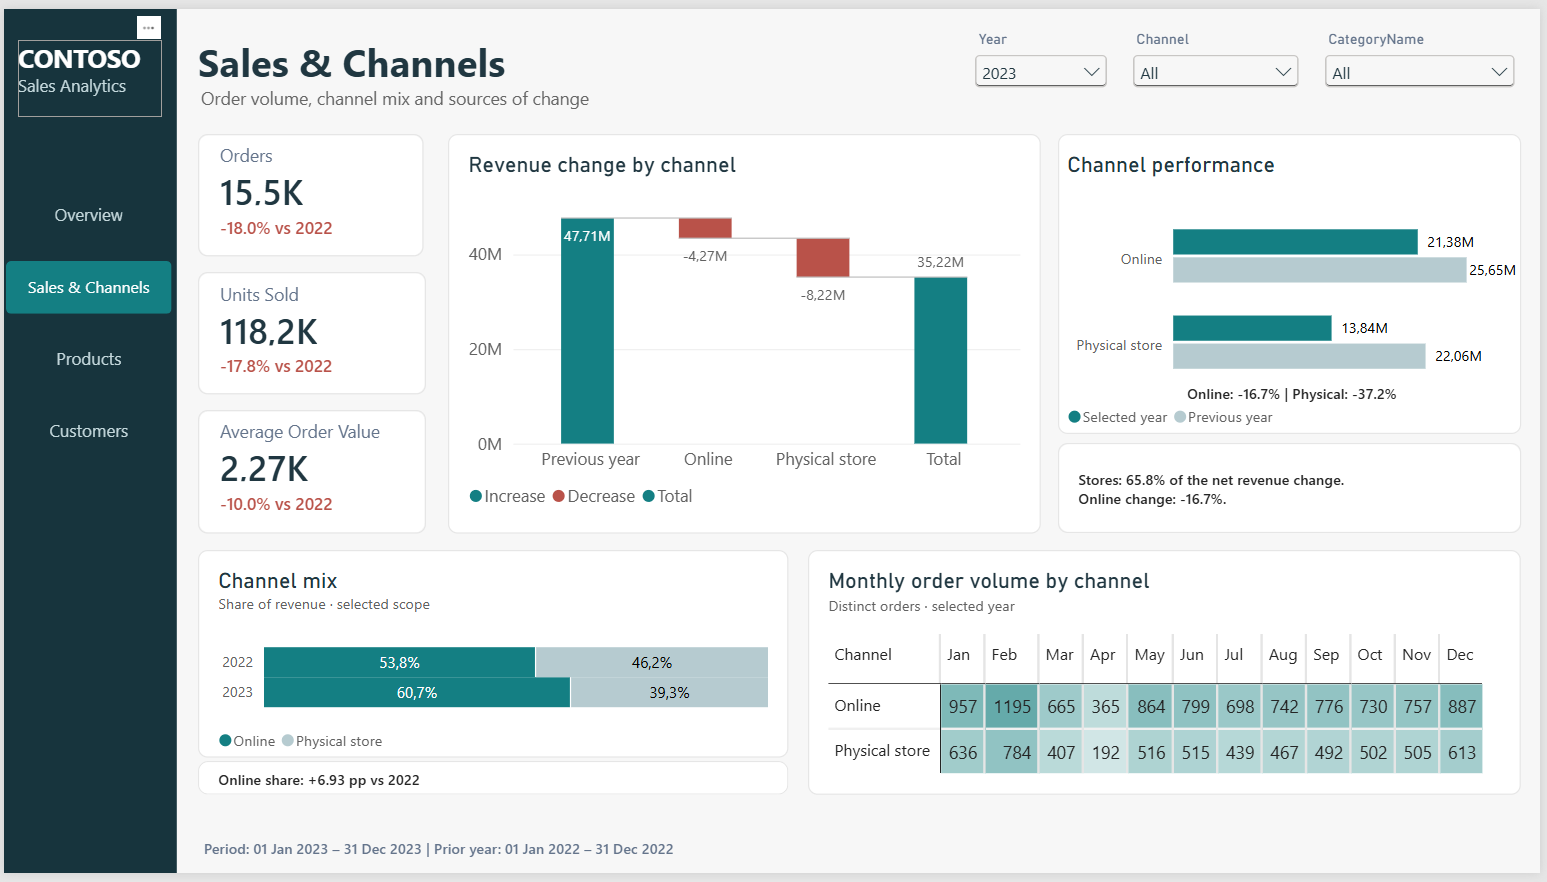

The page's visual inventory and layout, read from the dashboard file:
{"tool":"powerbi","page":{"name":"Sales & Channels","canvas":[1280,720],"ordinal":2},"visuals":[{"type":"shape","box":[0,0,144,720],"z":0},{"type":"shape","box":[162,104,188,102],"z":0,"group":"g2"},{"type":"shape","box":[162,219,190,102],"z":0,"group":"g1"},{"type":"shape","box":[162,334,190,103],"z":0,"group":"g3"},{"type":"textbox","box":[12,26,120,64],"z":1000},{"type":"cardVisual","fields":{"Data":["_Measures.Orders"]},"box":[170,112,182.1,88],"z":1000,"group":"g2"},{"type":"cardVisual","fields":{"Data":["_Measures.Units Sold"]},"box":[170,228,192,90],"z":1000,"group":"g1"},{"type":"cardVisual","fields":{"Data":["_Measures.Average Order Value"]},"box":[170,342,176,88],"z":1000,"group":"g3"},{"type":"textbox","box":[162,22,500,44],"z":2000},{"type":"slicer","fields":{"Values":["Date.Year"]},"box":[804,18,120,56],"z":3000},{"type":"cardVisual","fields":{"Data":["_Measures.Report Period Label"]},"box":[162,690,1102,18],"z":4000},{"type":"pageNavigator","box":[2,150,138,224],"z":5000},{"type":"slicer","fields":{"Values":["Store.Channel"]},"box":[936,18,148,56],"z":6000},{"type":"slicer","fields":{"Values":["Product.CategoryName"]},"box":[1096,18,168,56],"z":7000},{"type":"group","id":"g1","title":"kpi2","box":[162,219,200,102],"z":8000},{"type":"group","id":"g2","title":"kpi1","box":[162,104,190.1,102],"z":9000},{"type":"group","id":"g3","title":"kpi3","box":[162,334,190,103],"z":10000},{"type":"waterfallChart","title":"Revenue change by channel","fields":{"Category":["Sales Bridge Steps.Step"],"Y":["_Measures.Revenue Bridge Value"]},"box":[370,104,494,333],"z":11000},{"type":"clusteredBarChart","title":"Channel performance","fields":{"Category":["Store.Channel"],"Y":["_Measures.Revenue","_Measures.Revenue PY"]},"box":[878,104,386,250],"z":12000},{"type":"hundredPercentStackedBarChart","title":"Channel mix","fields":{"Category":["Comparison Year.Year"],"Y":["_Measures.Channel Mix Online","_Measures.Channel Mix Physical"]},"box":[162,451,492,173],"z":13000},{"type":"pivotTable","title":"Monthly order volume by channel","fields":{"Columns":["Date.MonthShort"],"Rows":["Store.Channel"],"Values":["_Measures.Orders"]},"box":[670,451,594,204],"z":14000},{"type":"cardVisual","fields":{"Data":["_Measures.Insight Channel Bridge Visual"]},"box":[878,362,386,75],"z":15000},{"type":"cardVisual","fields":{"Data":["_Measures.Channel Mix Change Label Visual"]},"box":[162,627,492,28],"z":16000},{"type":"cardVisual","fields":{"Data":["_Measures.Channel Performance YoY Text"]},"box":[970,308,265,23],"z":17000},{"type":"textbox","box":[164,64,400,48],"z":18000}]}

Visuals, with their boxes on the page's 1280x720 design canvas (x1, y1, x2, y2). These are canvas units, not pixel positions in the 1547x882 screenshot, which may show the page scaled, cropped or inside an application window:
shape: [x1=0, y1=0, x2=144, y2=720]
shape: [x1=162, y1=104, x2=350, y2=206]
shape: [x1=162, y1=219, x2=352, y2=321]
shape: [x1=162, y1=334, x2=352, y2=437]
textbox: [x1=12, y1=26, x2=132, y2=90]
cardVisual - _Measures.Orders: [x1=170, y1=112, x2=352, y2=200]
cardVisual - _Measures.Units Sold: [x1=170, y1=228, x2=362, y2=318]
cardVisual - _Measures.Average Order Value: [x1=170, y1=342, x2=346, y2=430]
textbox: [x1=162, y1=22, x2=662, y2=66]
slicer - Date.Year: [x1=804, y1=18, x2=924, y2=74]
cardVisual - _Measures.Report Period Label: [x1=162, y1=690, x2=1264, y2=708]
pageNavigator: [x1=2, y1=150, x2=140, y2=374]
slicer - Store.Channel: [x1=936, y1=18, x2=1084, y2=74]
slicer - Product.CategoryName: [x1=1096, y1=18, x2=1264, y2=74]
"kpi2" group: [x1=162, y1=219, x2=362, y2=321]
"kpi1" group: [x1=162, y1=104, x2=352, y2=206]
"kpi3" group: [x1=162, y1=334, x2=352, y2=437]
"Revenue change by channel" waterfallChart: [x1=370, y1=104, x2=864, y2=437]
"Channel performance" clusteredBarChart: [x1=878, y1=104, x2=1264, y2=354]
"Channel mix" hundredPercentStackedBarChart: [x1=162, y1=451, x2=654, y2=624]
"Monthly order volume by channel" pivotTable: [x1=670, y1=451, x2=1264, y2=655]
cardVisual - _Measures.Insight Channel Bridge Visual: [x1=878, y1=362, x2=1264, y2=437]
cardVisual - _Measures.Channel Mix Change Label Visual: [x1=162, y1=627, x2=654, y2=655]
cardVisual - _Measures.Channel Performance YoY Text: [x1=970, y1=308, x2=1235, y2=331]
textbox: [x1=164, y1=64, x2=564, y2=112]
